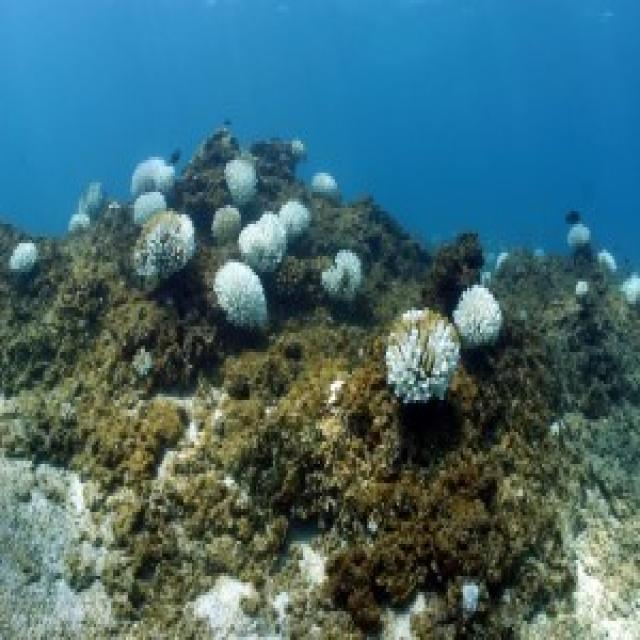Bleached: (387, 308, 460, 401), (133, 212, 195, 289), (217, 262, 273, 338), (453, 286, 502, 347), (240, 212, 287, 273), (323, 251, 362, 302), (130, 155, 179, 189), (225, 155, 255, 203), (278, 203, 308, 241), (214, 209, 240, 241), (624, 265, 639, 313), (14, 241, 37, 270), (312, 177, 338, 196), (571, 225, 590, 247), (598, 251, 618, 267), (575, 279, 590, 299)
